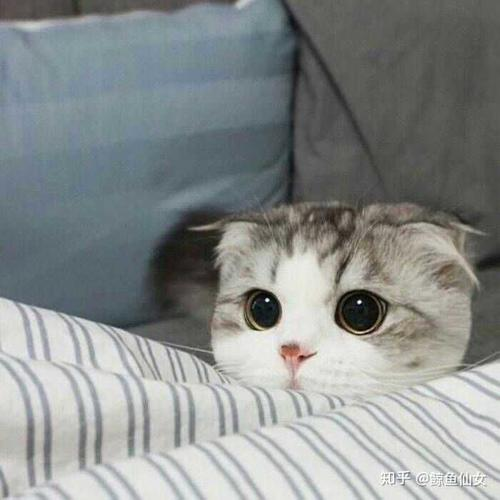cat: (190, 192, 486, 418)
